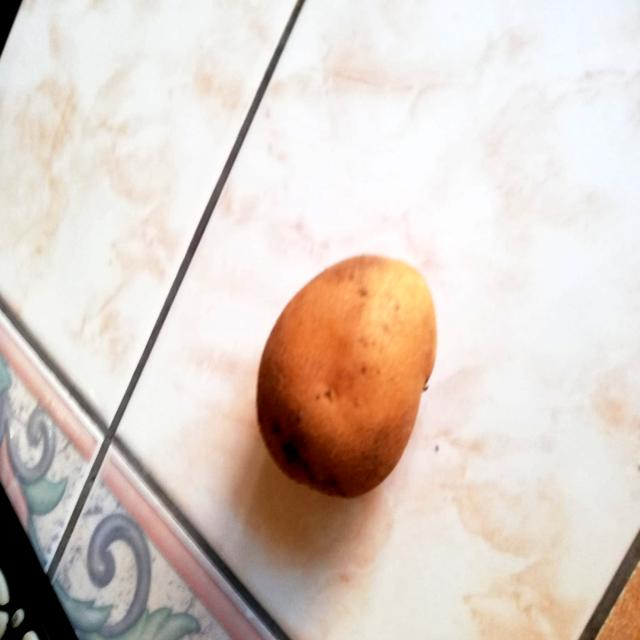potato: (253, 251, 441, 501)
